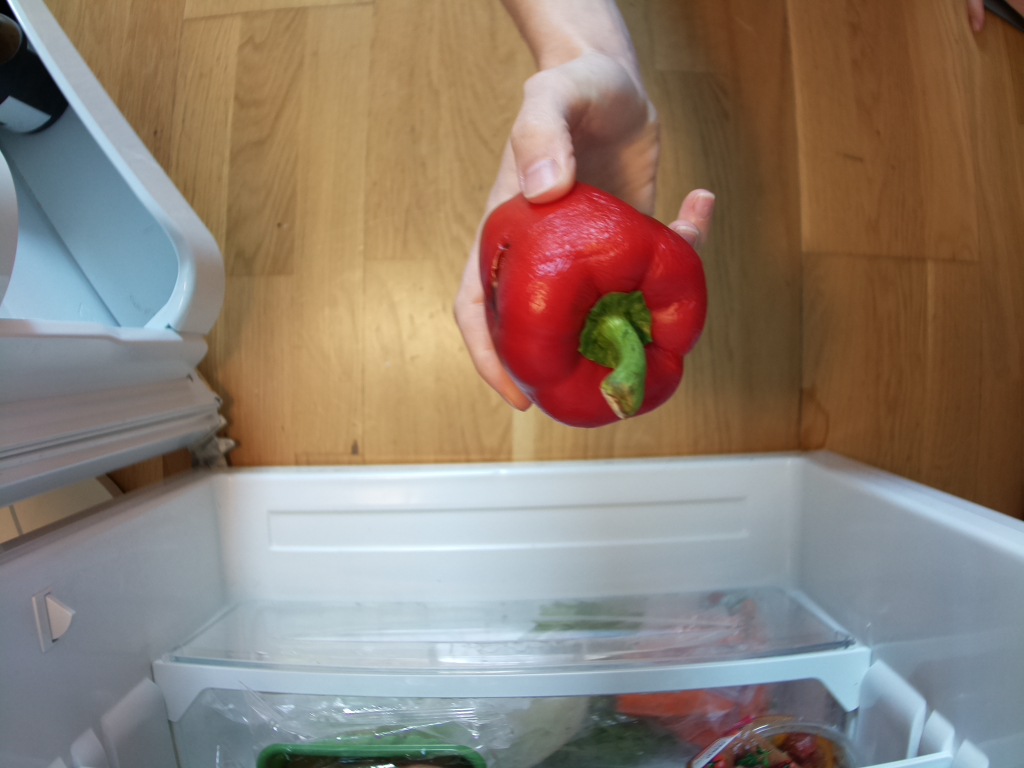pepper-bad: (476, 179, 715, 435)
